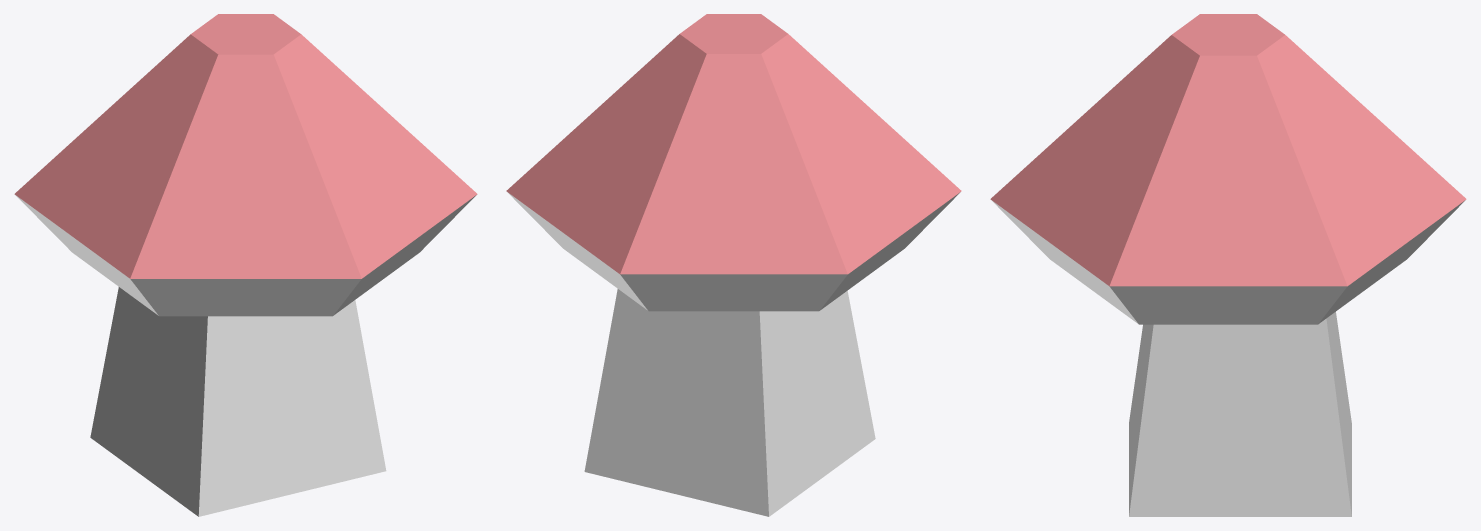
The model's file is mushroom_red.glb.
3 views of the same model, side by side, from view 1: azimuth 30°, elevation 25°; view 2: azimuth 150°, elevation 25°; view 3: azimuth 270°, elevation 25° (orthographic). The views are drawn at different scales.
Parts seen in each view (by area): view 1: mushroom_red; view 2: mushroom_red; view 3: mushroom_red.
Part boxes in pixels (x1,y1,x2,y2): mushroom_red: [14, 14, 477, 516]; mushroom_red: [506, 14, 961, 516]; mushroom_red: [990, 14, 1466, 516].
Size of the model in its own units: 0.174 by 0.2028 by 0.2009.
